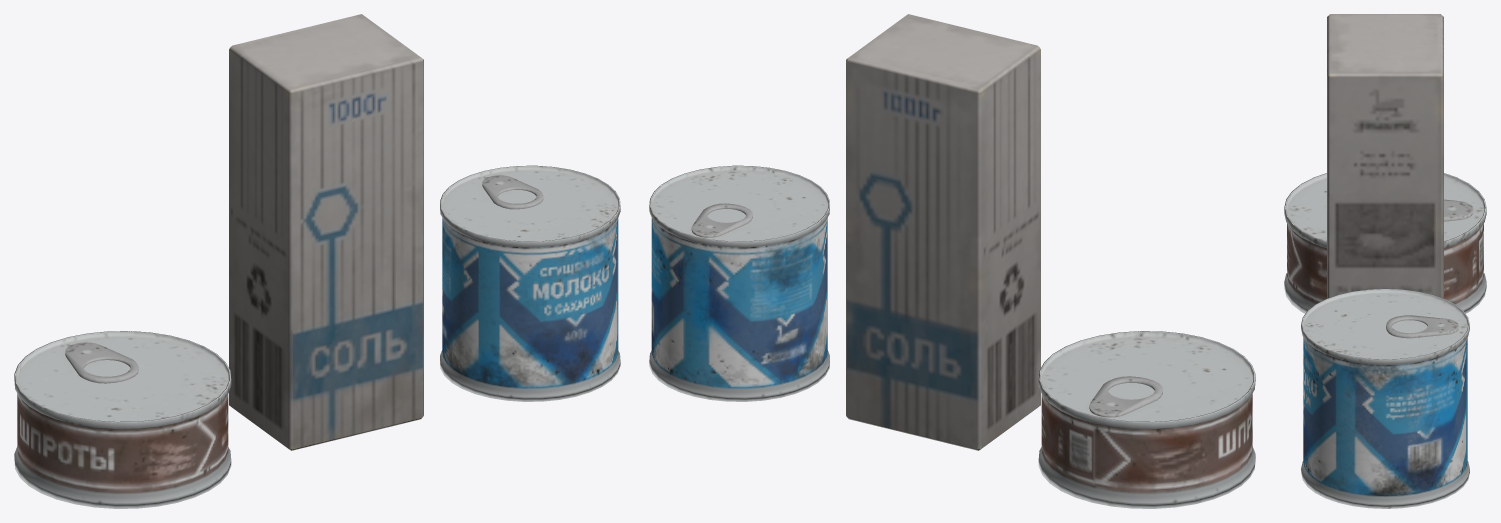
Rendered from russian_food_cans_01.7cccf6ca34.glb.
3 renders of one model, left to right at view 1: azimuth 30°, elevation 25°; view 2: azimuth 150°, elevation 25°; view 3: azimuth 270°, elevation 25°, orthographic. The views are drawn at different scales.
Visible parts, largest first — view 1: russian_food_cans_01_salt_box, russian_food_cans_01_can_cond, russian_food_cans_01_can_fish; view 2: russian_food_cans_01_salt_box, russian_food_cans_01_can_cond, russian_food_cans_01_can_fish; view 3: russian_food_cans_01_can_cond, russian_food_cans_01_salt_box, russian_food_cans_01_can_fish.
Part boxes in pixels (x1,y1,x2,y2): russian_food_cans_01_salt_box: (229, 14, 423, 450); russian_food_cans_01_can_cond: (440, 165, 620, 401); russian_food_cans_01_can_fish: (14, 331, 231, 508); russian_food_cans_01_salt_box: (846, 14, 1040, 450); russian_food_cans_01_can_cond: (649, 165, 829, 401); russian_food_cans_01_can_fish: (1038, 331, 1255, 508); russian_food_cans_01_can_cond: (1301, 288, 1469, 508); russian_food_cans_01_salt_box: (1327, 14, 1443, 298); russian_food_cans_01_can_fish: (1284, 173, 1486, 313).
Bounding box in the file's own units: 0.1424 × 0.0849 × 0.0462.
1 material, 1 textured.
